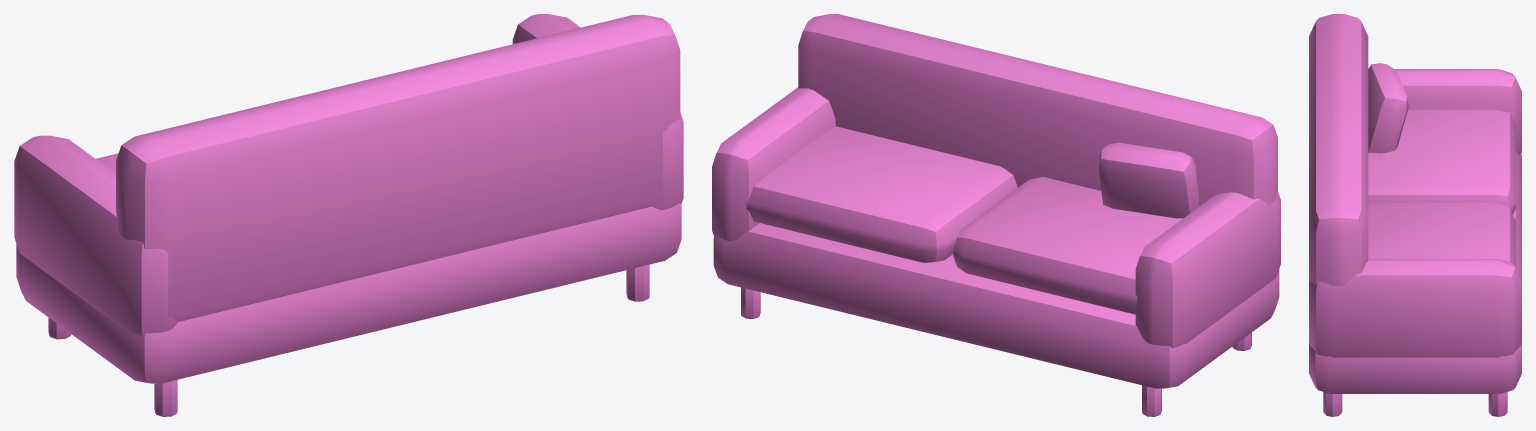
File: Parcel_Sofa.fbx
3 views of the same model, side by side, from view 1: azimuth 30°, elevation 25°; view 2: azimuth 150°, elevation 25°; view 3: azimuth 270°, elevation 25° (orthographic). The views are drawn at different scales.
Visible parts, largest first — view 1: Parcel; view 2: Parcel; view 3: Parcel.
Part boxes in pixels (left/top/right/bottom): Parcel: left=14, top=14, right=683, bottom=416; Parcel: left=712, top=14, right=1280, bottom=416; Parcel: left=1309, top=14, right=1521, bottom=416.
Size of the model in its own units: 4.25 by 2 by 1.8.
Materials: 1 (1 with a texture image).
